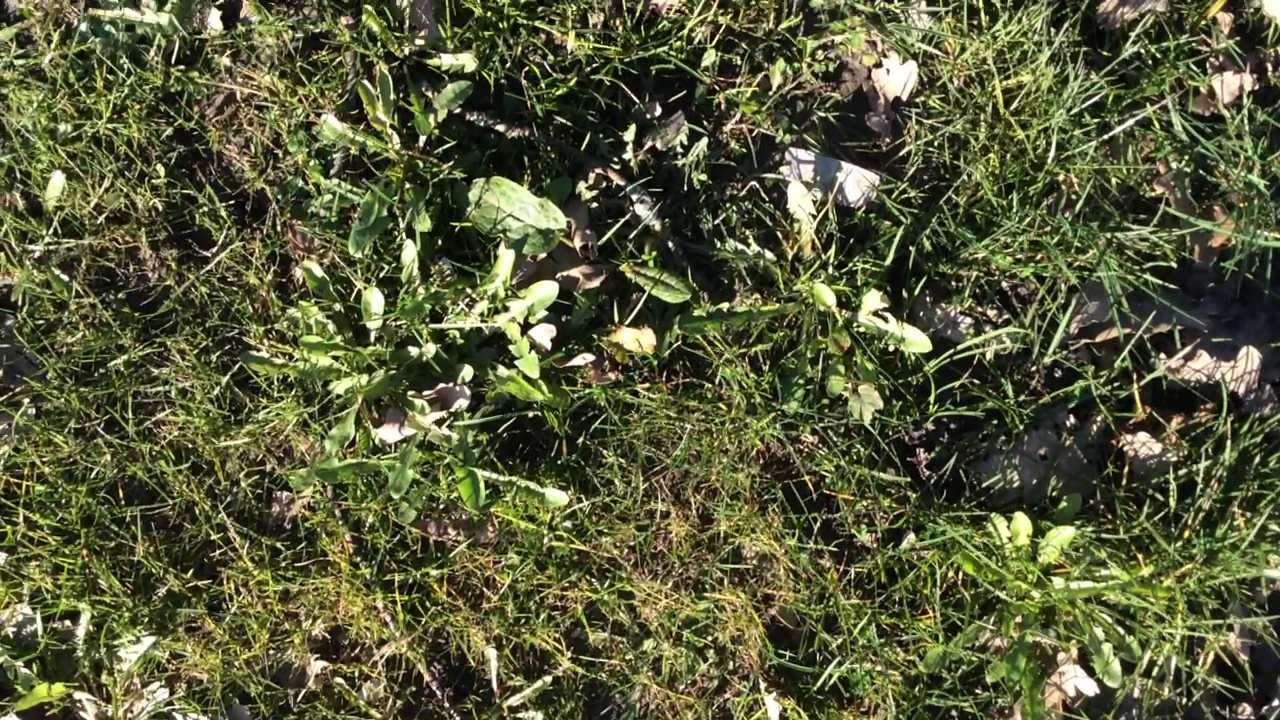rumex: (450, 177, 566, 254), (621, 263, 691, 304)
